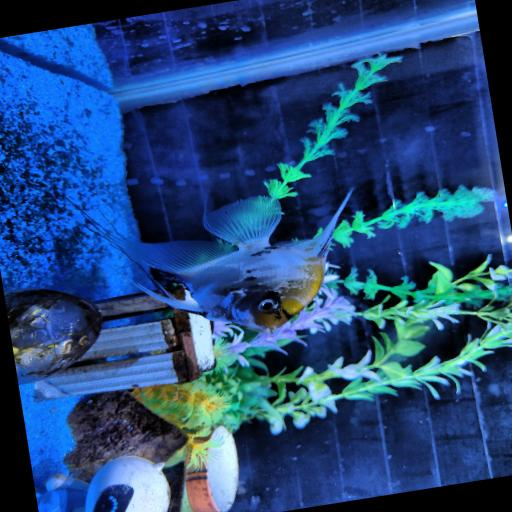Fish: (94, 192, 351, 333)
